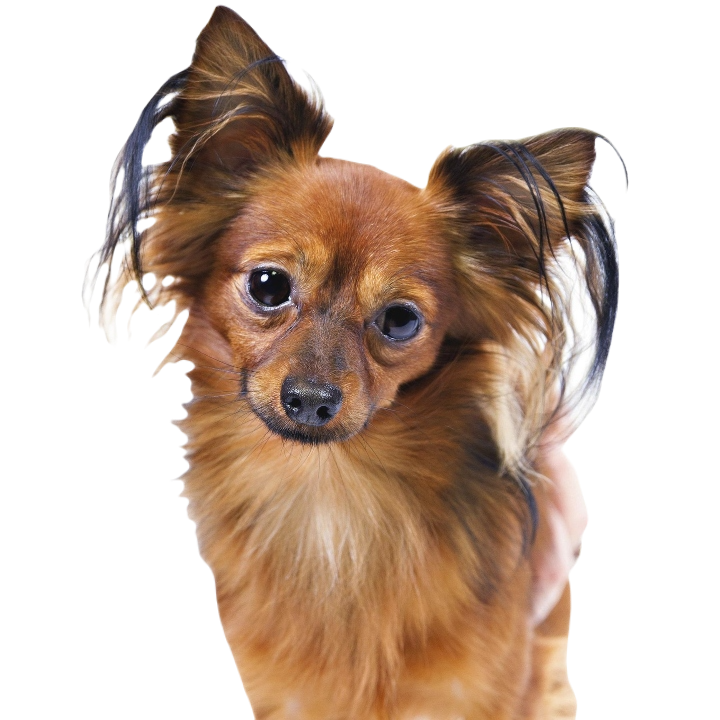Dog: (91, 2, 629, 719)
